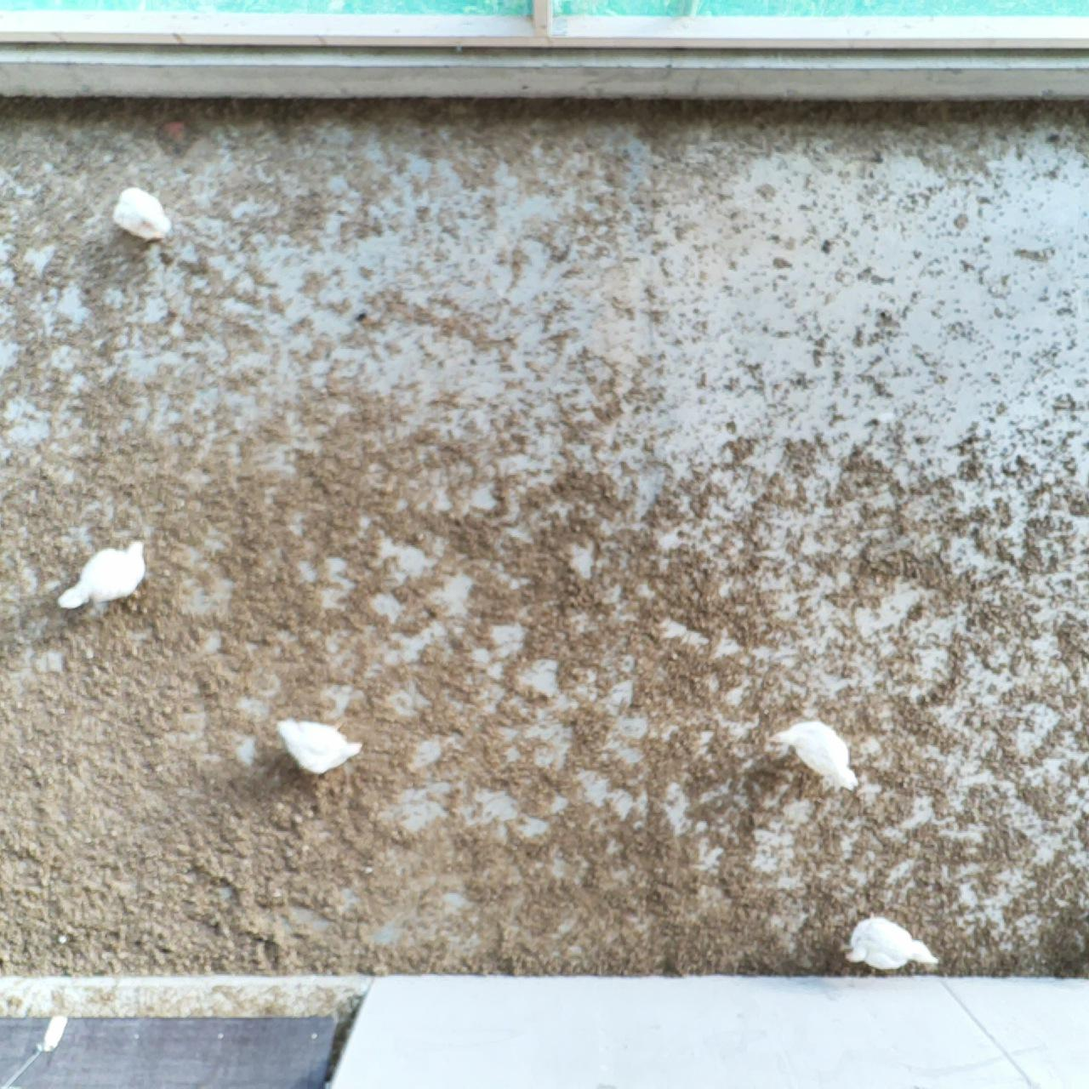chicken: (61, 538, 148, 607), (771, 720, 857, 789), (845, 910, 938, 969), (279, 716, 363, 772), (115, 186, 171, 240)
